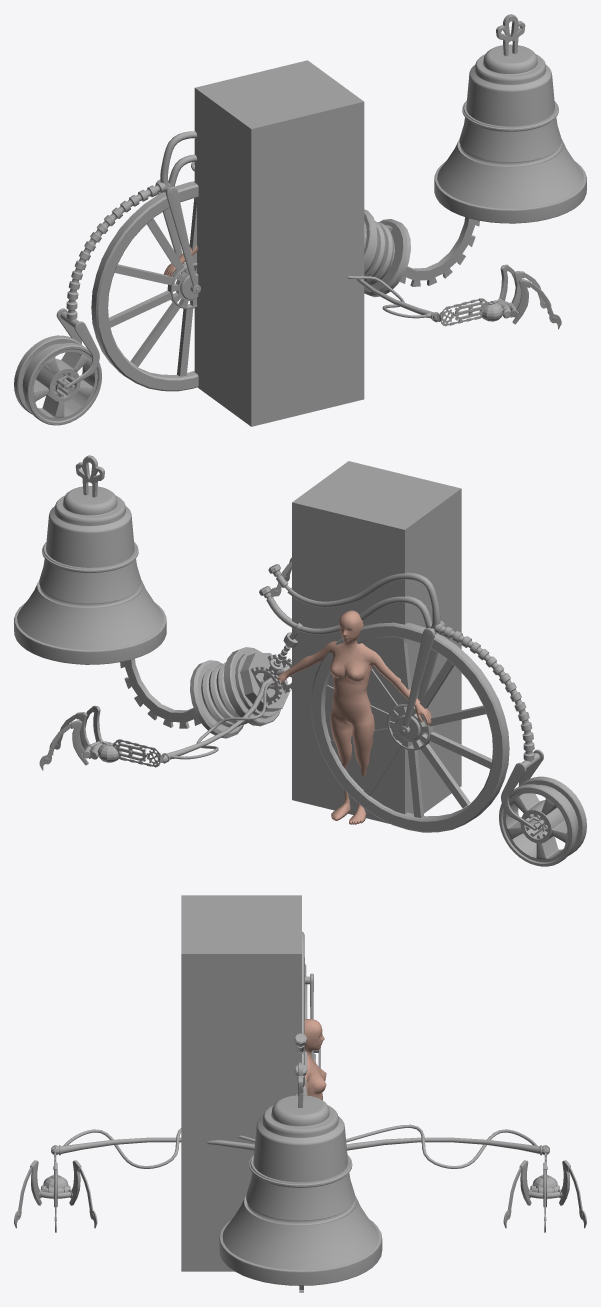
The model's file is Normal_Enemy (1).fbx.
The picture shows the model from 3 angles, top to bottom: view 1: azimuth 30°, elevation 25°; view 2: azimuth 150°, elevation 25°; view 3: azimuth 270°, elevation 25°; orthographic projection. The views are drawn at different scales.
Visible parts, largest first — view 1: pCube1, pCylinder37, pCylinder36, pCylinder29, polySurface51, polySurface12, pCylinder2, polySurface88, polySurface85, polySurface50, pCylinder35, polySurface58; view 2: pCube1, pCylinder37, pCylinder36, CharacterFemale:woman, pCylinder29, polySurface58, polySurface51, polySurface12, polySurface85, pCylinder2, polySurface88, polySurface50 (+5 smaller); view 3: pCube1, pCylinder37, polySurface85, polySurface65, polySurface32, CharacterFemale:woman, polySurface87, polySurface58.
Boxes of the visible parts, <box> form: pCube1: <box>194,60,364,426</box>; pCylinder37: <box>434,14,586,223</box>; pCylinder36: <box>91,181,198,391</box>; pCylinder29: <box>14,335,101,425</box>; polySurface51: <box>364,209,410,297</box>; polySurface12: <box>66,181,166,320</box>; pCylinder2: <box>399,217,479,286</box>; polySurface88: <box>155,179,200,293</box>; polySurface85: <box>499,264,561,329</box>; polySurface50: <box>364,221,394,285</box>; pCylinder35: <box>56,308,99,388</box>; polySurface58: <box>160,131,197,192</box>; pCube1: <box>292,461,461,823</box>; pCylinder37: <box>14,455,166,664</box>; pCylinder36: <box>311,622,509,832</box>; CharacterFemale:woman: <box>272,610,431,824</box>; pCylinder29: <box>499,776,586,866</box>; polySurface58: <box>259,564,440,634</box>; polySurface51: <box>190,647,280,738</box>; polySurface12: <box>434,623,534,761</box>; polySurface85: <box>39,557,291,770</box>; pCylinder2: <box>120,658,201,728</box>; polySurface88: <box>400,620,445,735</box>; polySurface50: <box>201,662,247,727</box>; pCube1: <box>181,895,301,1271</box>; pCylinder37: <box>219,1062,382,1285</box>; polySurface85: <box>14,1160,586,1232</box>; polySurface65: <box>59,1137,541,1155</box>; polySurface32: <box>64,1124,536,1168</box>; CharacterFemale:woman: <box>304,1019,326,1100</box>; polySurface87: <box>38,1185,562,1199</box>; polySurface58: <box>294,931,307,1086</box>.
Bounding box in the file's own units: 489 × 250 × 409.
